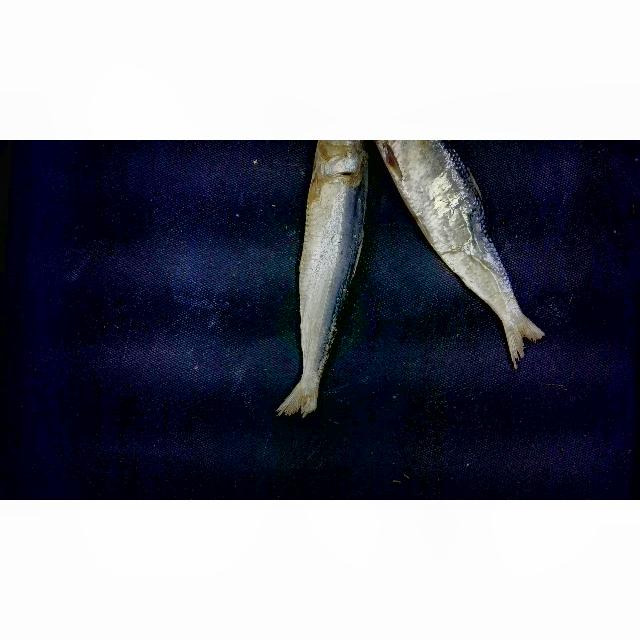Grade_A_Body: (389, 182, 535, 275), (291, 189, 372, 320)
Grade_A_Tail: (449, 273, 571, 367), (264, 317, 367, 421)
